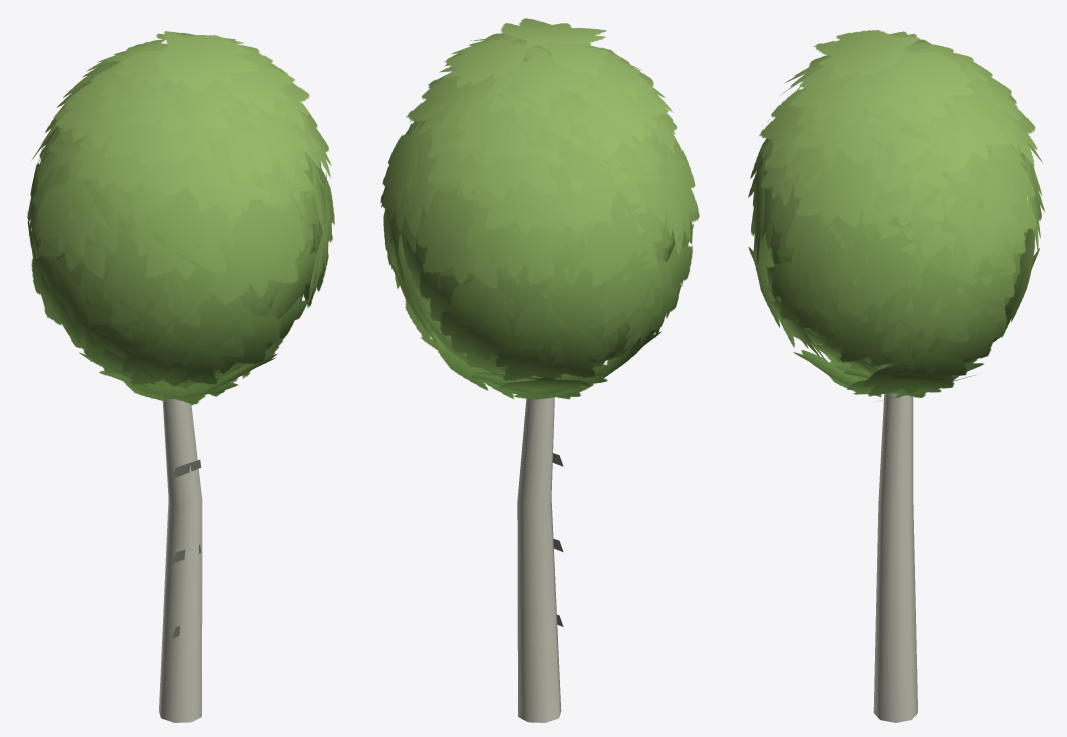
Rendered from birch-17.glb.
The picture shows the model from 3 angles, left to right: view 1: azimuth 30°, elevation 25°; view 2: azimuth 150°, elevation 25°; view 3: azimuth 270°, elevation 25°; orthographic projection.
Parts seen in each view (by area): view 1: pale birch; view 2: pale birch; view 3: pale birch.
Part boxes in pixels (x1,y1,x2,y2): pale birch: (27, 31, 334, 722); pale birch: (380, 18, 699, 722); pale birch: (748, 30, 1044, 722).
Size of the model in its own units: 2.85 by 6.36 by 2.69.
1 material, 1 textured.
